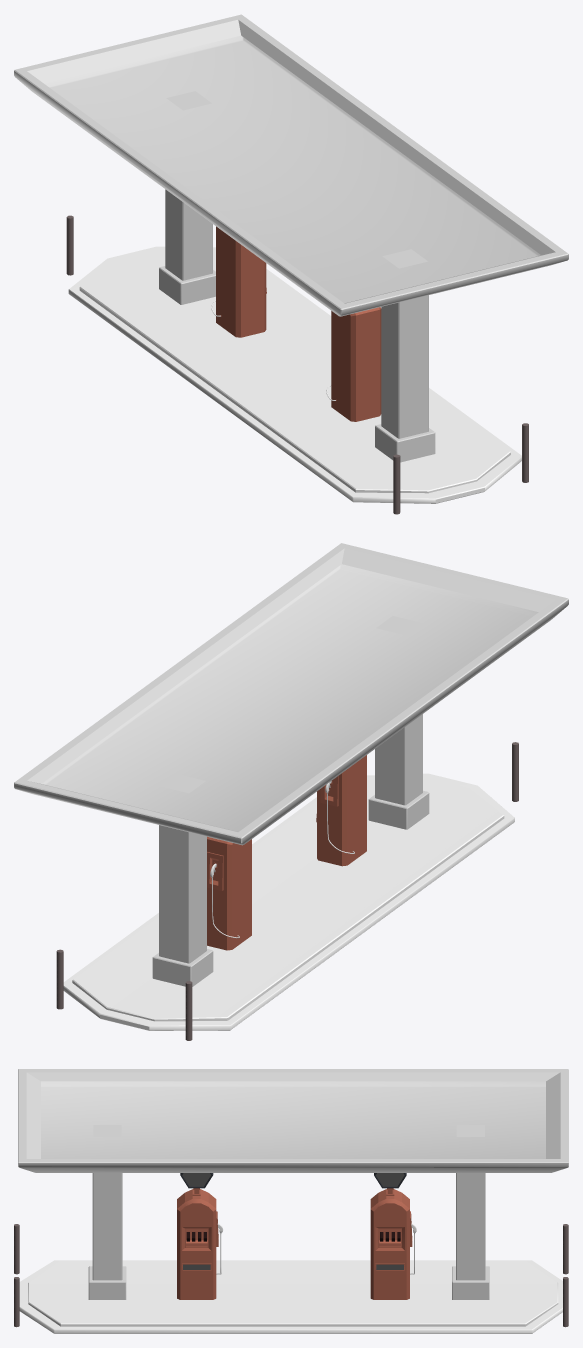
The model's file is posto.glb.
The picture shows the model from 3 angles, top to bottom: view 1: azimuth 30°, elevation 25°; view 2: azimuth 150°, elevation 25°; view 3: azimuth 270°, elevation 25°; orthographic projection. The views are drawn at different scales.
Parts seen in each view (by area): view 1: posto; view 2: posto; view 3: posto.
Boxes of the visible parts, x1=… form: posto: x1=14, y1=14, x2=568, y2=514; posto: x1=14, y1=543, x2=568, y2=1040; posto: x1=14, y1=1069, x2=568, y2=1333.
Bounding box in the file's own units: 19.98 × 18.13 × 50.02.
